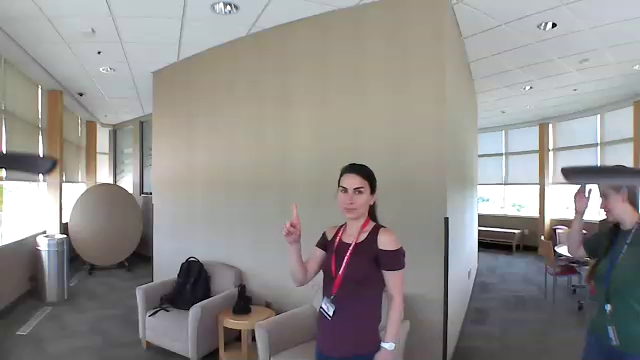up: (275, 201, 306, 249)
